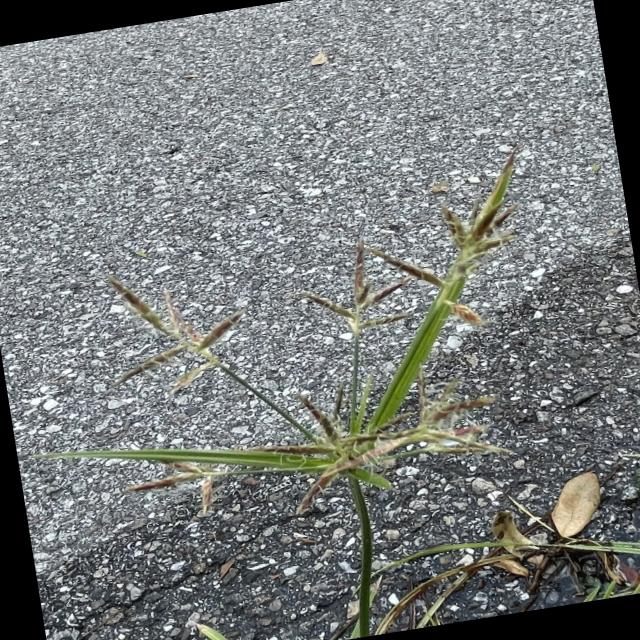cyperus: (67, 134, 577, 548)
